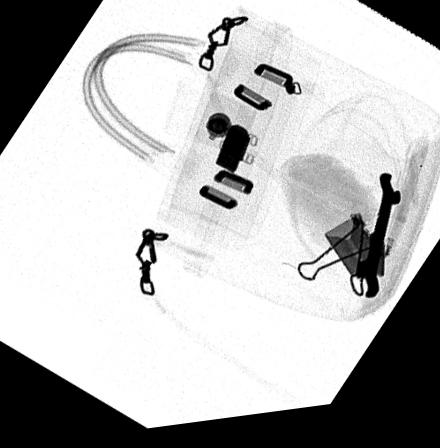Wrench: (352, 180, 400, 309)
